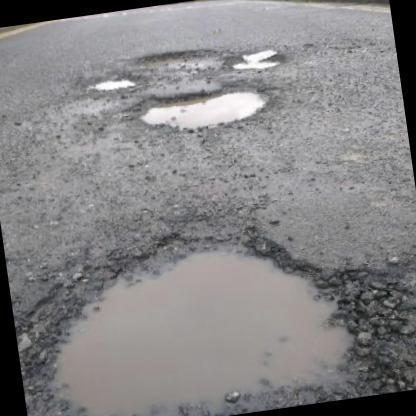pothole: (0, 211, 416, 416), (130, 84, 274, 131), (136, 44, 228, 72), (235, 46, 286, 76), (83, 74, 142, 97)
